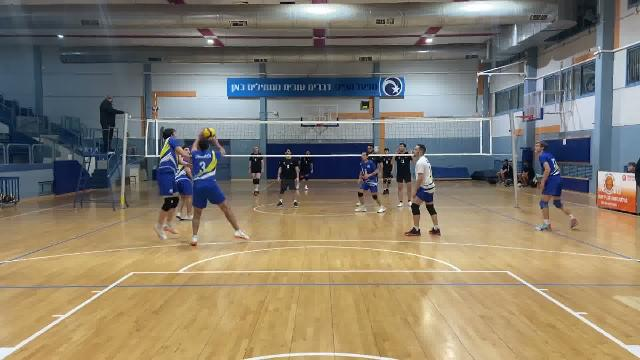ball: (201, 127, 217, 140)
